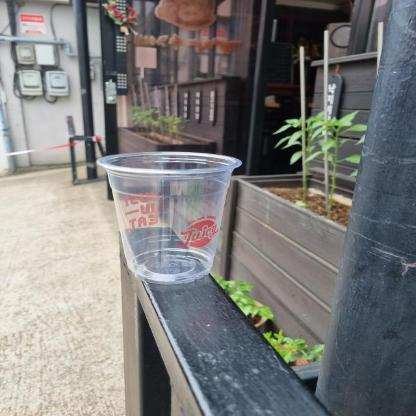Plastic Cup: (97, 148, 246, 286)
